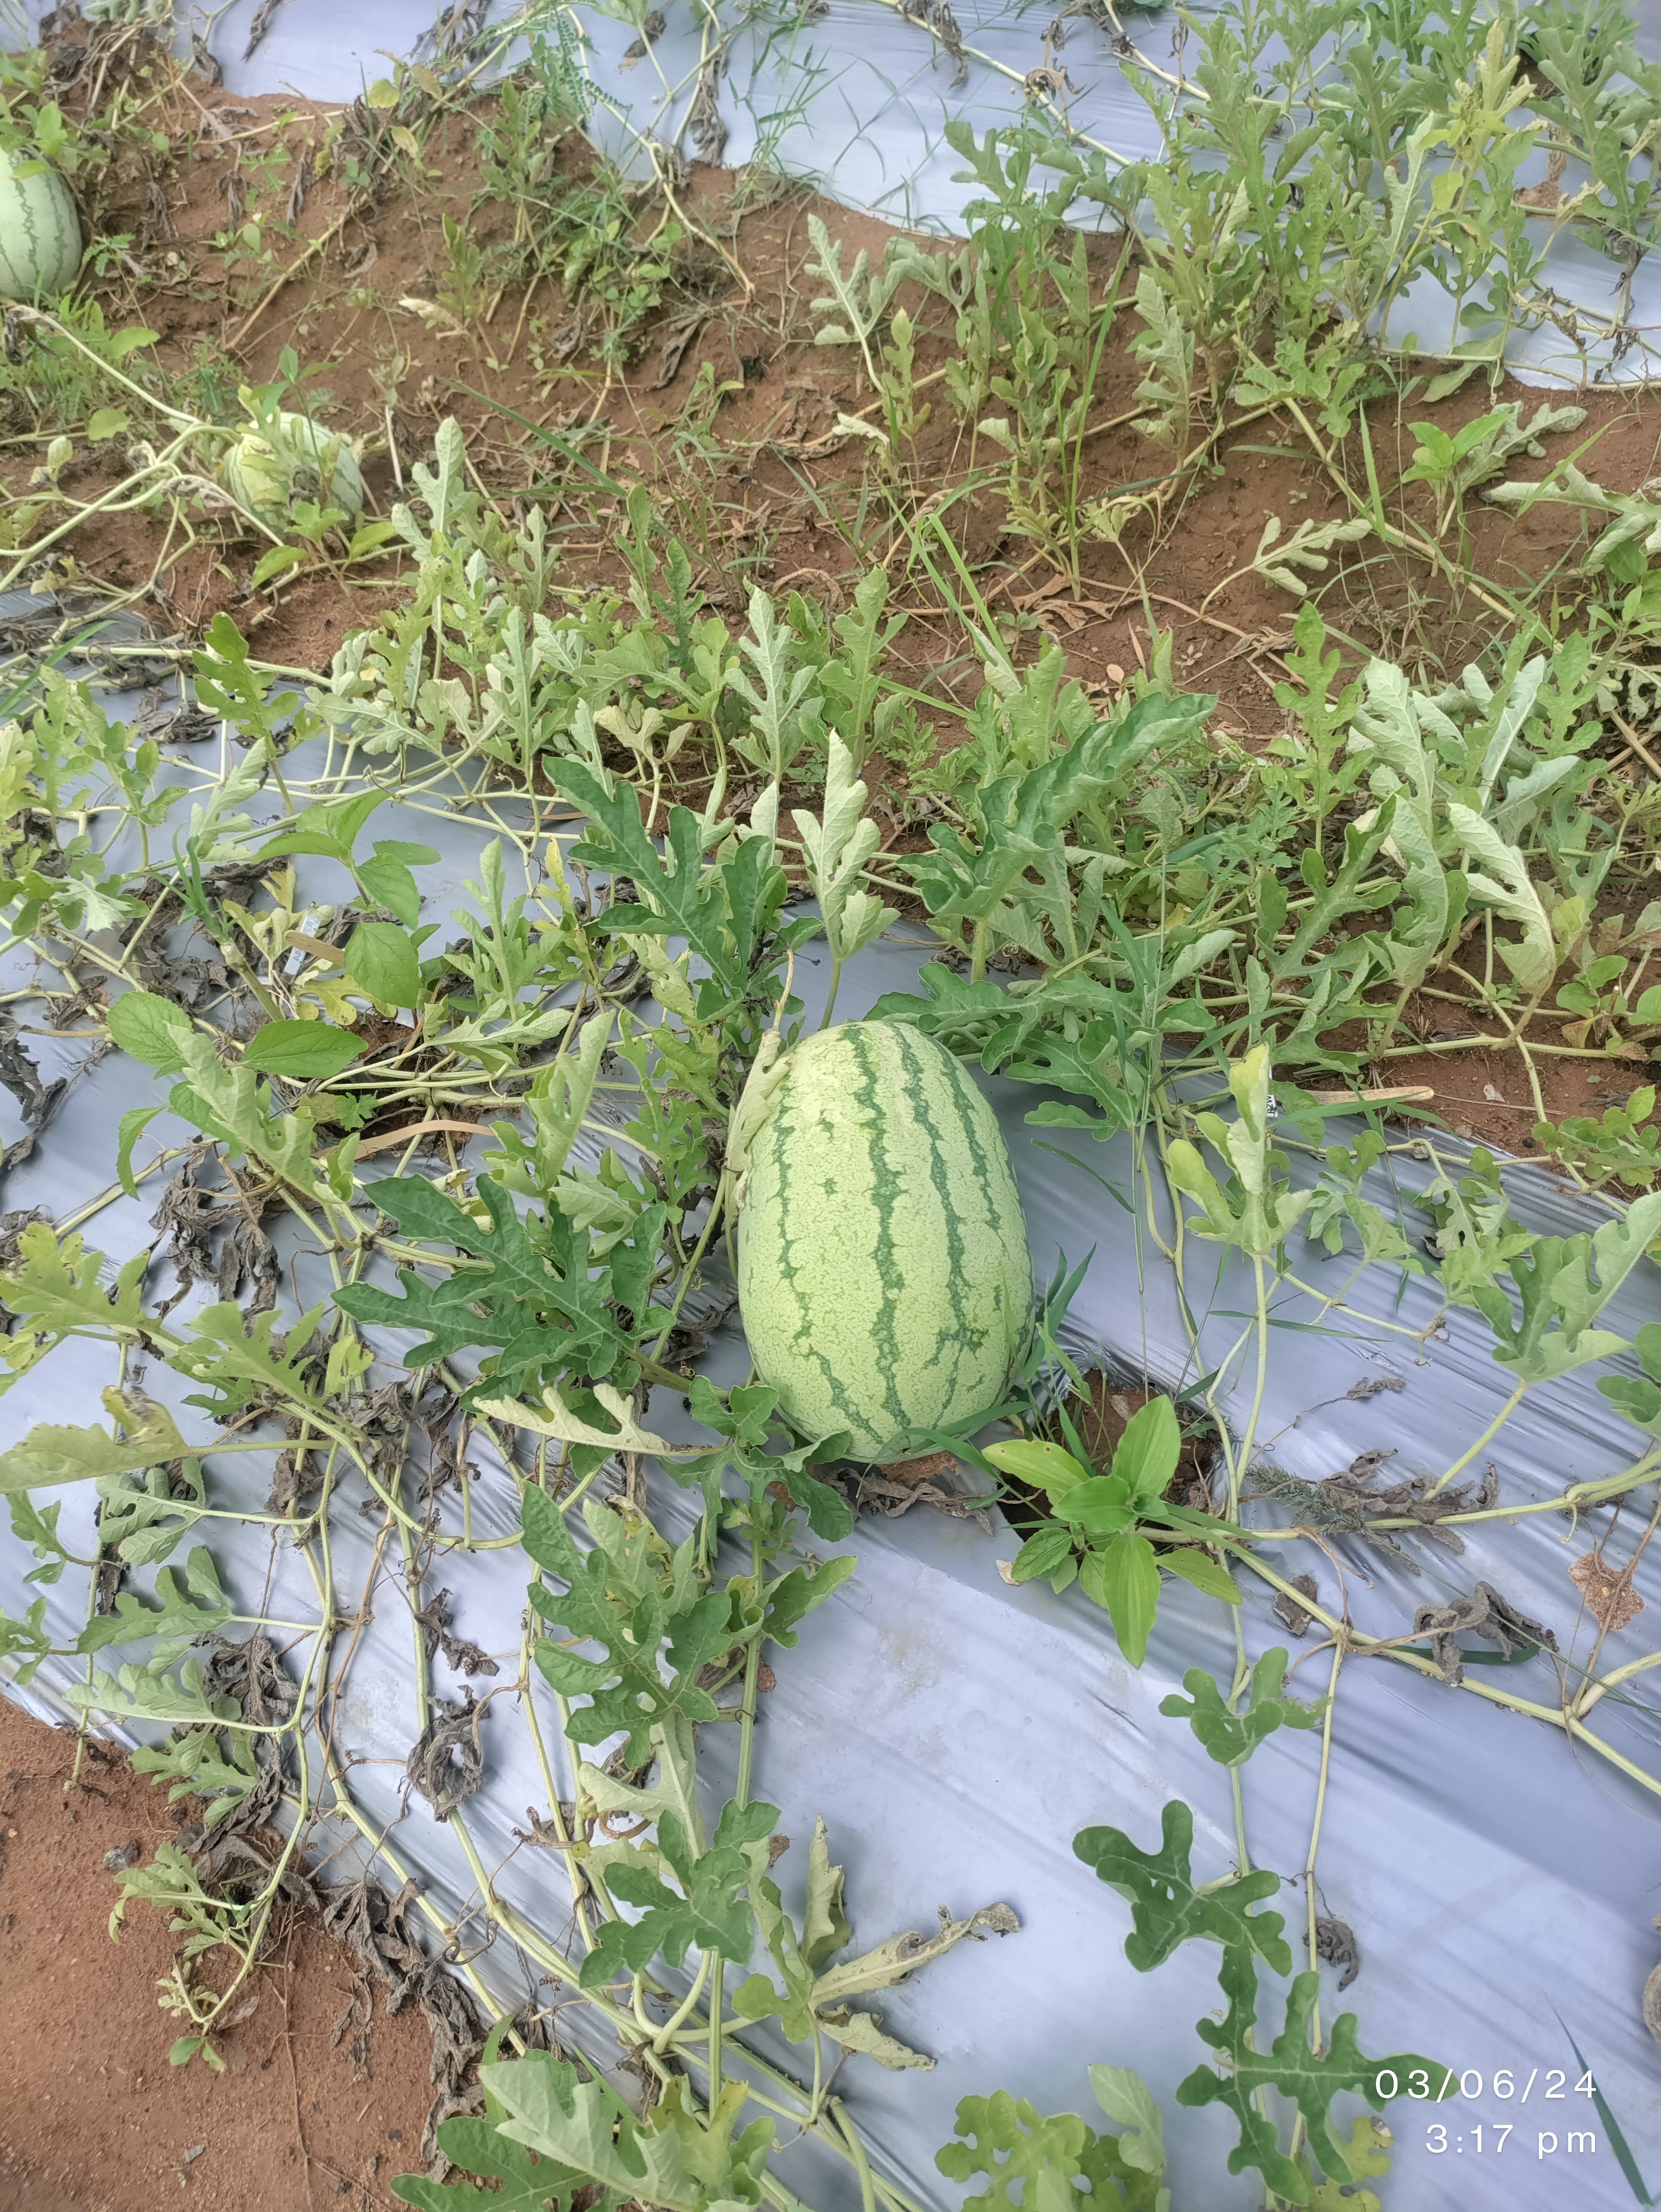good-to-harvest: (693, 938, 1099, 1526)
